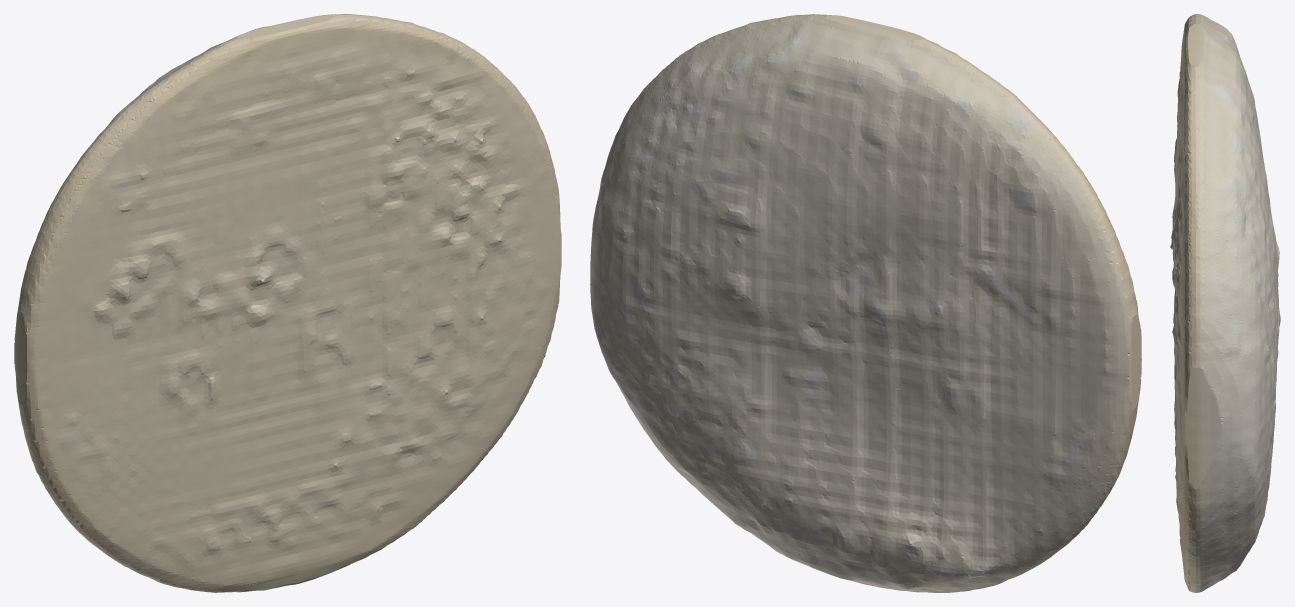
Rendered from bunTop.glb.
The picture shows the model from 3 angles, left to right: view 1: azimuth 30°, elevation 25°; view 2: azimuth 150°, elevation 25°; view 3: azimuth 270°, elevation 25°; orthographic projection. The views are drawn at different scales.
Parts seen in each view (by area): view 1: geometry_0; view 2: geometry_0; view 3: geometry_0.
Boxes of the visible parts, x1,y1,x2,y2 form: geometry_0: (14, 14, 561, 592); geometry_0: (590, 14, 1141, 592); geometry_0: (1170, 14, 1280, 592).
Size of the model in its own units: 1.97 by 1.97 by 0.3811.
